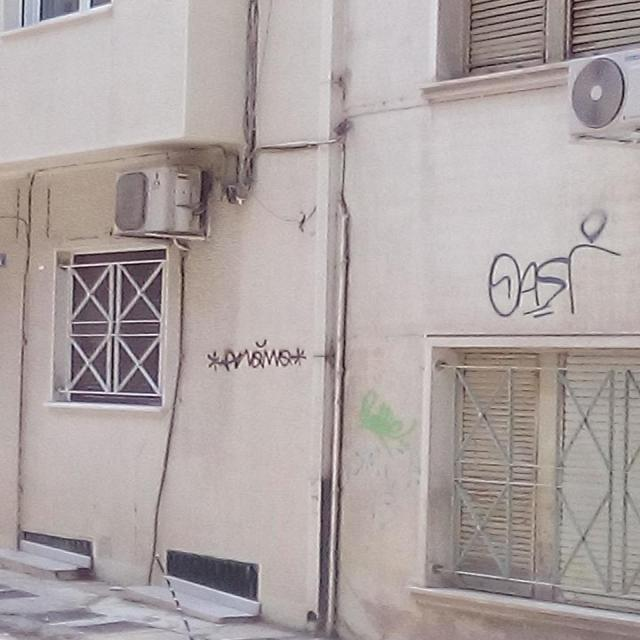nonspitting: (487, 210, 624, 320), (208, 337, 309, 375)
